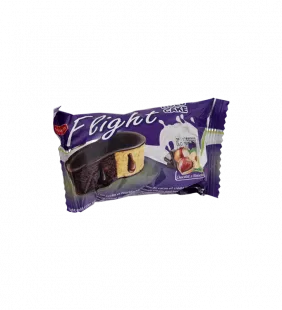FLIGHT: (43, 91, 237, 220)
